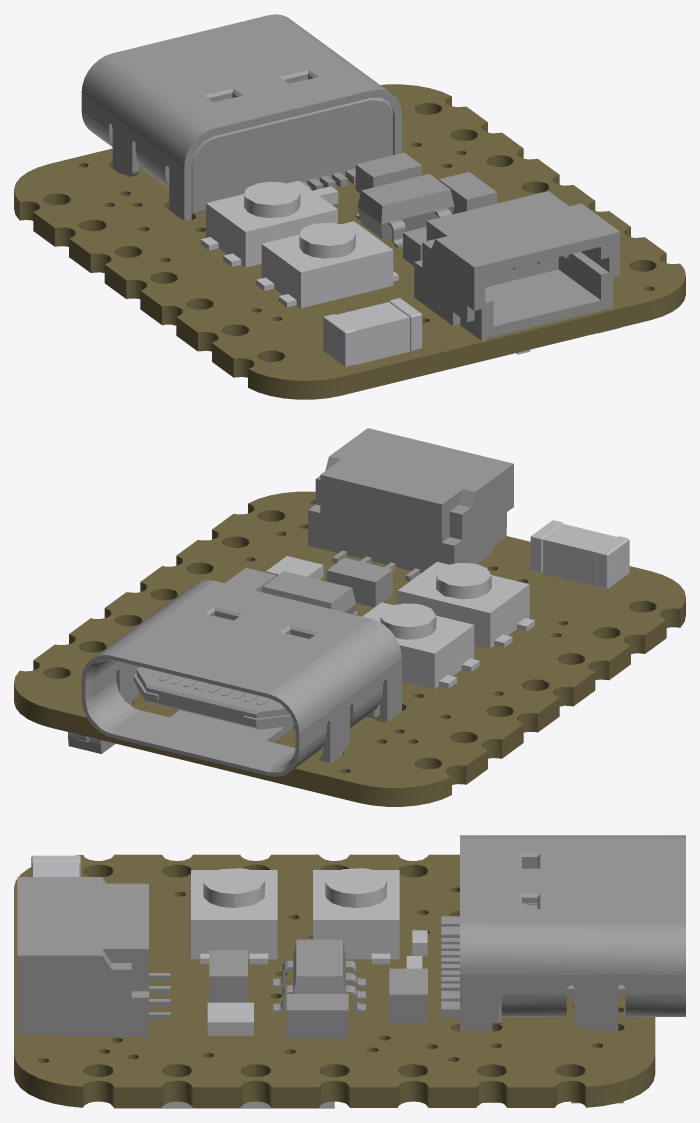
Rendered from ada-5395.glb.
The picture shows the model from 3 angles, top to bottom: view 1: azimuth 30°, elevation 25°; view 2: azimuth 150°, elevation 25°; view 3: azimuth 270°, elevation 25°; orthographic projection. The views are drawn at different scales.
Visible parts, largest first — view 1: 0.3333333333333333_0.3333333333333333_0.3333333333333333_0, 0.16666666666666666_0.16666666666666666_0.08333333333333333_, 0.5833333333333334_0.5833333333333334_0.5833333333333334_0.8; view 2: 0.3333333333333333_0.3333333333333333_0.3333333333333333_0, 0.16666666666666666_0.16666666666666666_0.08333333333333333_, 0.5833333333333334_0.5833333333333334_0.5833333333333334_0.8; view 3: 0.3333333333333333_0.3333333333333333_0.3333333333333333_0, 0.16666666666666666_0.16666666666666666_0.08333333333333333_, 0.5833333333333334_0.5833333333333334_0.5833333333333334_0.8.
Part boxes in pixels (box(x1,y1,x2,y2)): 0.3333333333333333_0.3333333333333333_0.3333333333333333_0: box(81, 14, 620, 340); 0.16666666666666666_0.16666666666666666_0.08333333333333333_: box(14, 84, 685, 399); 0.5833333333333334_0.5833333333333334_0.5833333333333334_0.8: box(200, 180, 621, 367); 0.3333333333333333_0.3333333333333333_0.3333333333333333_0: box(68, 428, 513, 776); 0.16666666666666666_0.16666666666666666_0.08333333333333333_: box(14, 491, 685, 806); 0.5833333333333334_0.5833333333333334_0.5833333333333334_0.8: box(266, 520, 629, 689); 0.3333333333333333_0.3333333333333333_0.3333333333333333_0: box(17, 835, 685, 1103); 0.16666666666666666_0.16666666666666666_0.08333333333333333_: box(14, 854, 655, 1107); 0.5833333333333334_0.5833333333333334_0.5833333333333334_0.8: box(31, 855, 427, 1108).
Bounding box in the file's own units: 1.78 × 0.5594 × 2.17.
